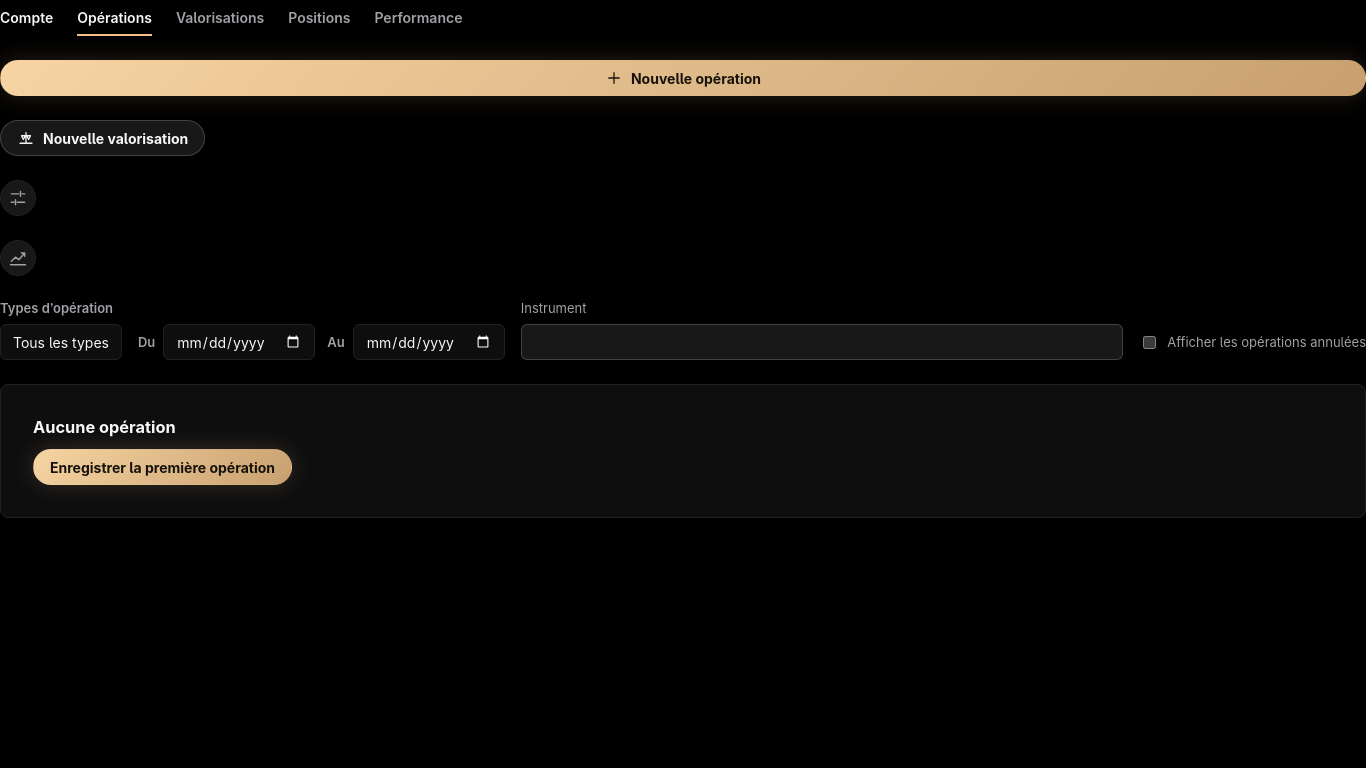
PortfolioAccountPage › shows an empty state with a create action
This screenshot has width=1366, height=768.
Expected: the heading "Aucune opération" is shown, [33,417,176,437]
Click the button "Enregistrer la première opération": (163, 467) [33,449,292,485]
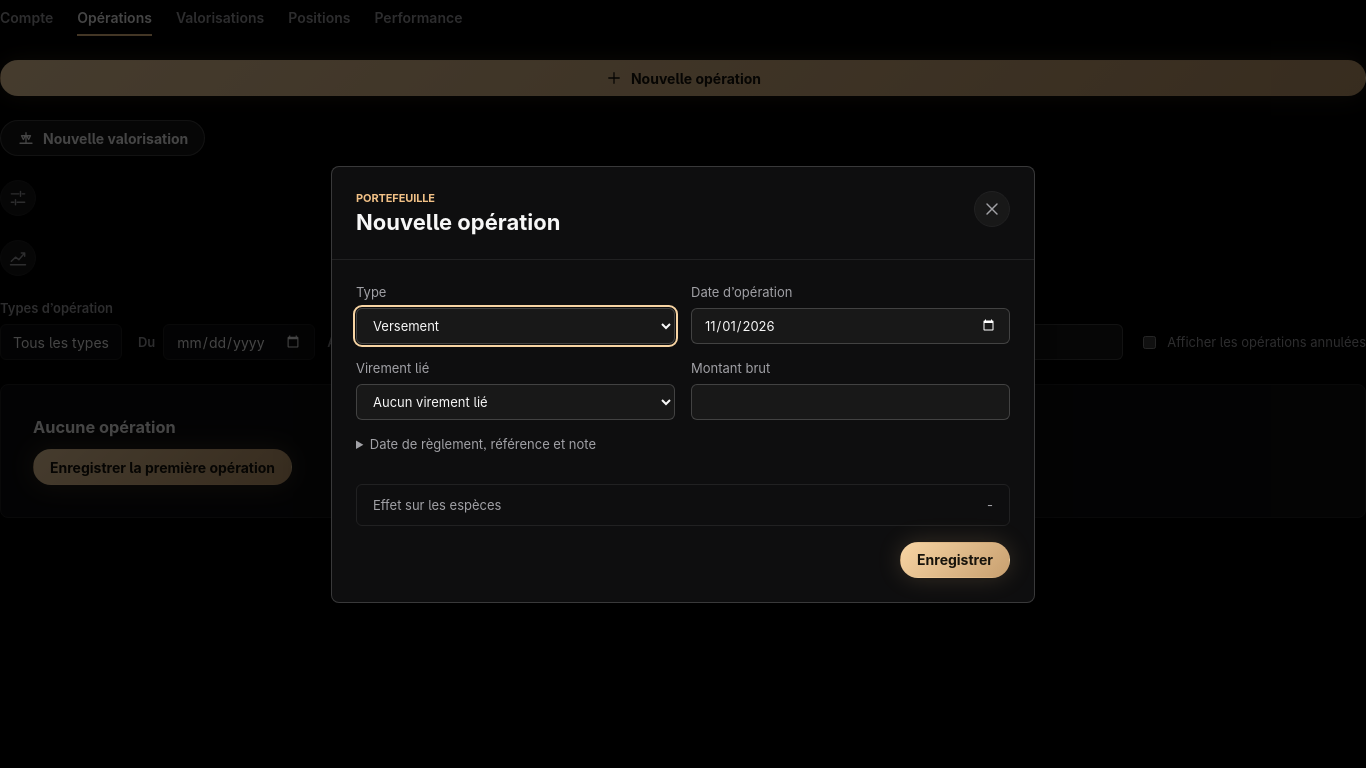
Expected: the dialog "Nouvelle opération" is shown, [331,166,1035,602]
